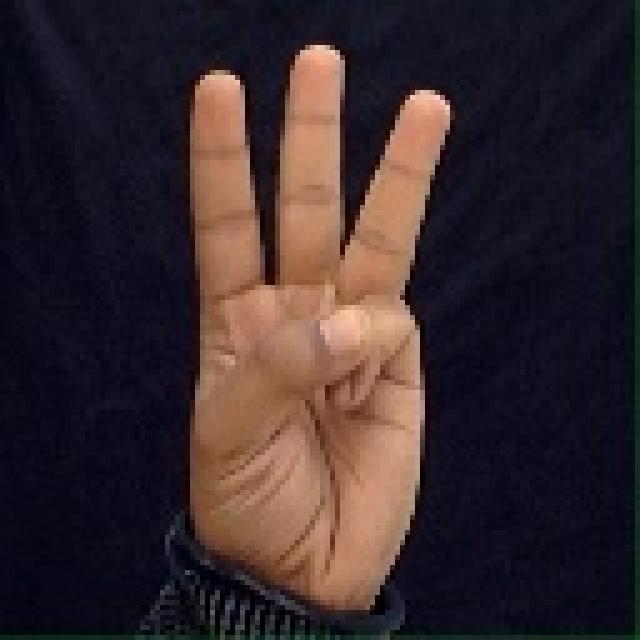Numeric-3: (188, 39, 456, 597)
